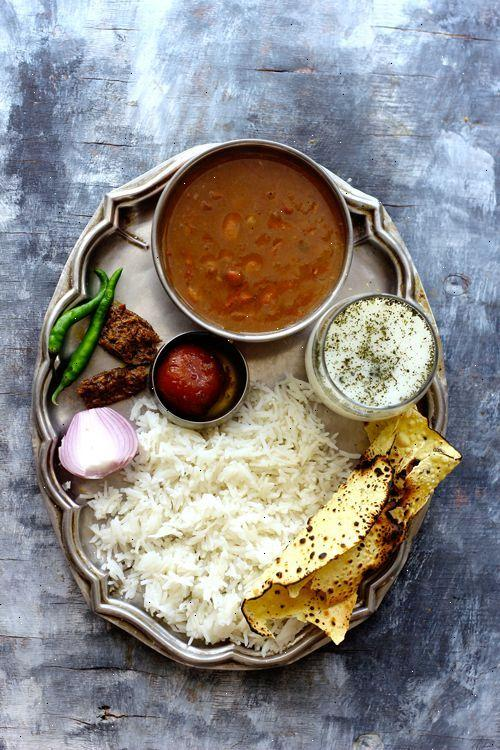rajma: (144, 162, 358, 322)
rice: (134, 424, 304, 566)
